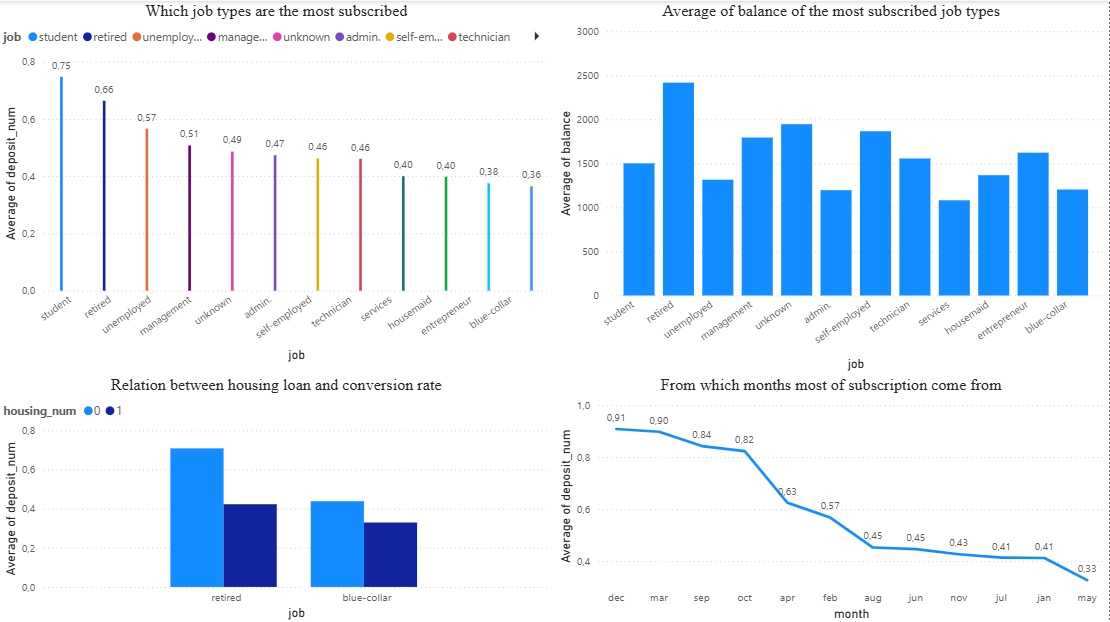

The dashboard page shown, as its layout file describes it:
{"tool":"powerbi","page":{"name":"visuals 1","canvas":[1280,720],"ordinal":0},"visuals":[{"type":"clusteredColumnChart","title":"Which job types are the most subscribed","fields":{"Category":["public bank_cleaned.job"],"Y":["Avg(public bank_cleaned.deposit_num)"],"Series":["public bank_cleaned.job"]},"box":[0,0,640,421.5],"z":0},{"type":"clusteredColumnChart","title":"Average of balance of the most subscribed job types","fields":{"Y":["Avg(public bank_cleaned.balance)"],"Category":["public bank_cleaned.job"]},"box":[640,0,640,431.8],"z":1000},{"type":"clusteredColumnChart","title":"Relation between housing loan and conversion rate","fields":{"Category":["public bank_cleaned.job"],"Y":["Avg(public bank_cleaned.deposit_num)"],"Series":["public bank_cleaned.housing_num"]},"box":[0,431.8,640,287.9],"z":2000},{"type":"lineChart","title":"From which months most of subscription come from","fields":{"Category":["public bank_cleaned.month"],"Y":["Avg(public bank_cleaned.deposit_num)"]},"box":[640,432,640,288],"z":3000}]}

Visuals, with their boxes in screenshot pixels (x1, y1, x2, y2), scaled from the page's 1280x720 canvas onto the 1110x622 screenshot:
"Which job types are the most subscribed" clusteredColumnChart: bbox(0, 0, 555, 364)
"Average of balance of the most subscribed job types" clusteredColumnChart: bbox(555, 0, 1109, 373)
"Relation between housing loan and conversion rate" clusteredColumnChart: bbox(0, 373, 555, 621)
"From which months most of subscription come from" lineChart: bbox(555, 373, 1109, 621)
